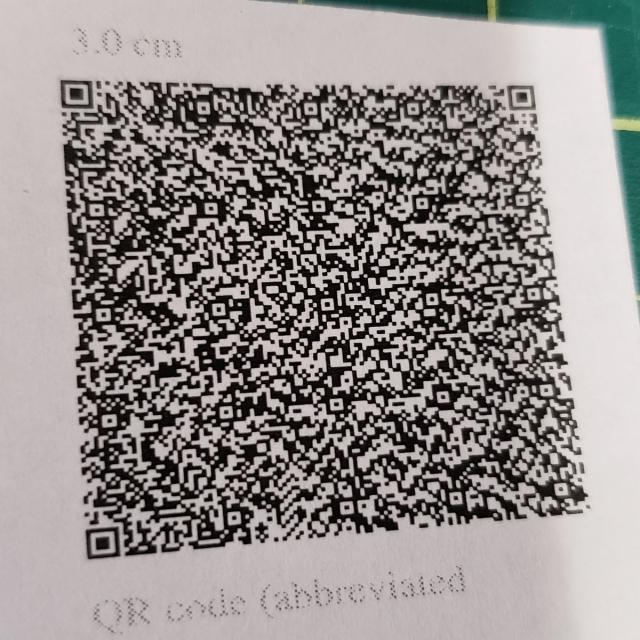QR_CODE: (37, 42, 610, 573)
